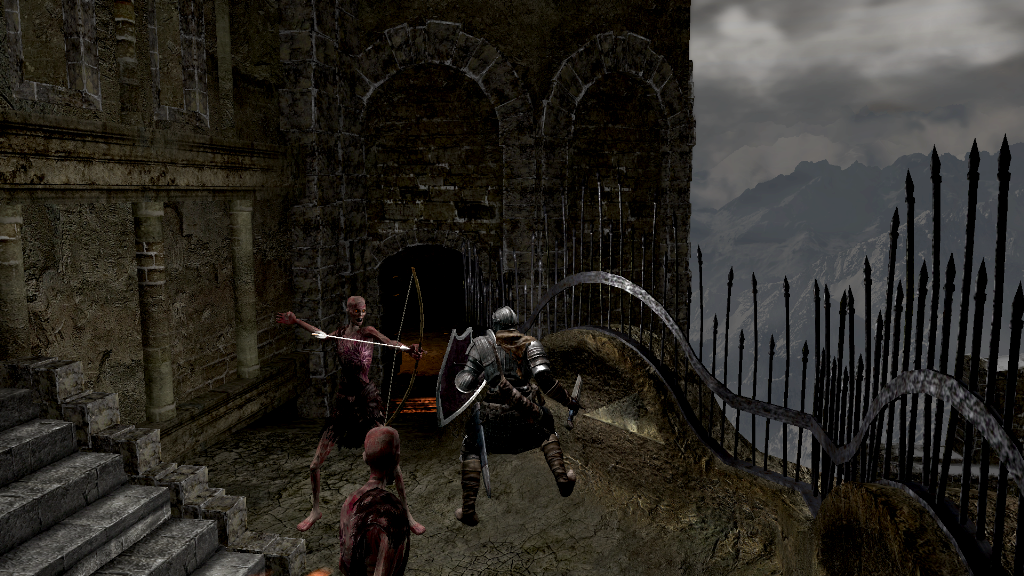hollow: (273, 295, 427, 537), (339, 424, 412, 576)
player: (434, 303, 585, 524)
